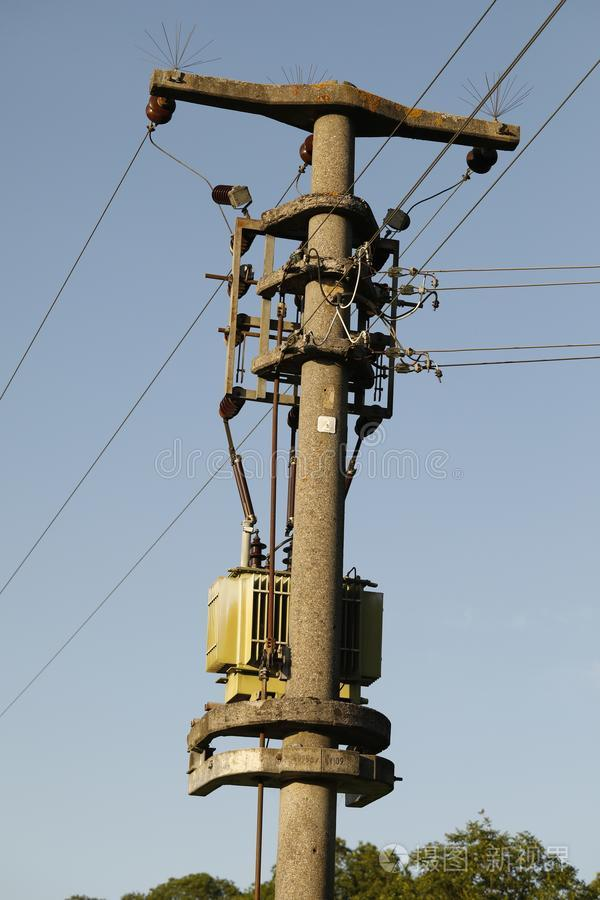insulator: (465, 143, 500, 173), (138, 97, 170, 123)
